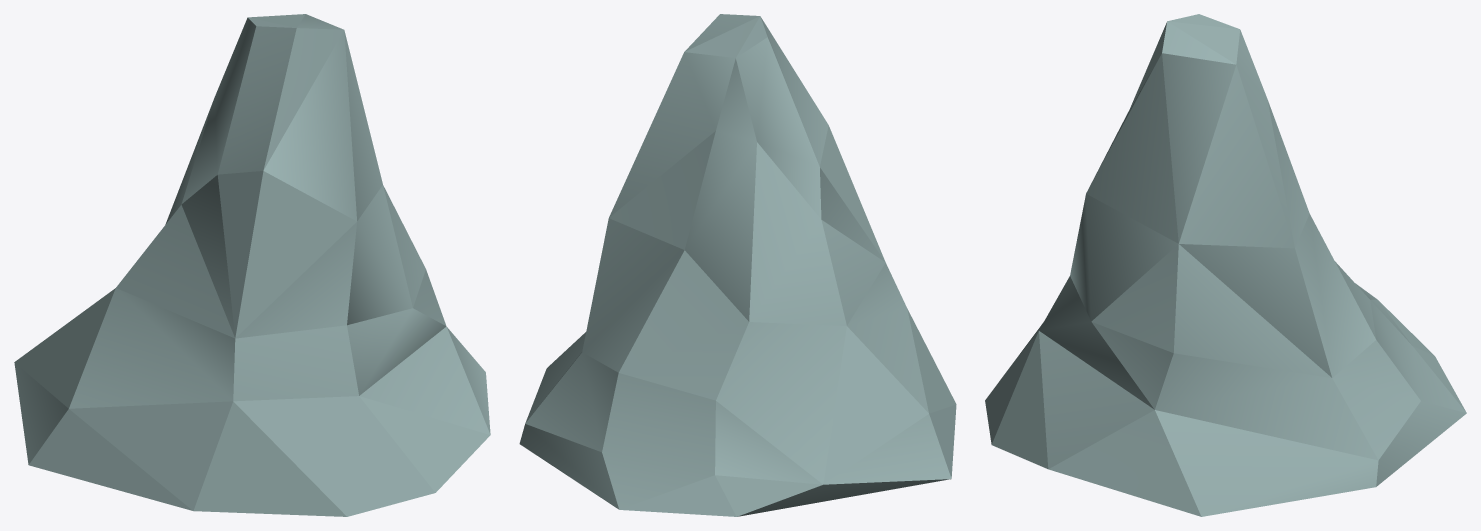
Rendered from Rock4.fbx.
The picture shows the model from 3 angles, left to right: view 1: azimuth 30°, elevation 25°; view 2: azimuth 150°, elevation 25°; view 3: azimuth 270°, elevation 25°; orthographic projection. The views are drawn at different scales.
Parts seen in each view (by area): view 1: salactites_1; view 2: salactites_1; view 3: salactites_1.
Boxes of the visible parts, x1,y1,x2,y2 form: salactites_1: (14,14,490,516); salactites_1: (519,14,956,516); salactites_1: (985,14,1466,516).
Bounding box in the file's own units: 3833 × 3410 × 3718.
